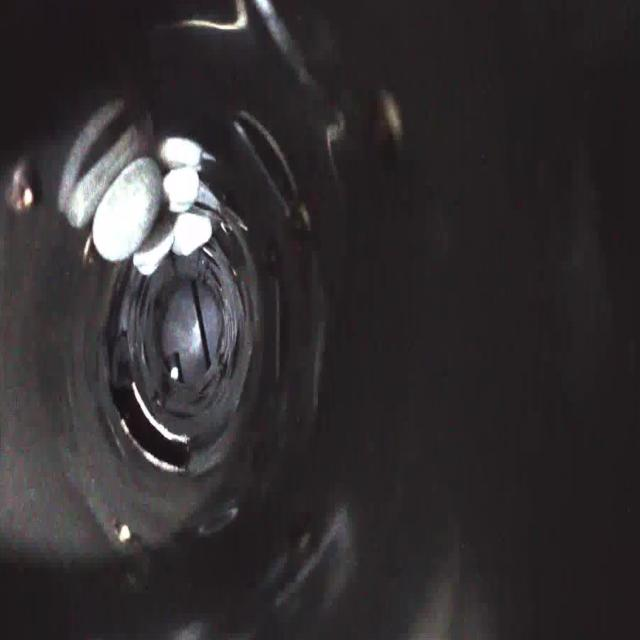crack: (228, 272, 264, 380), (116, 259, 148, 347), (195, 380, 218, 422)
hole: (104, 377, 190, 475)
